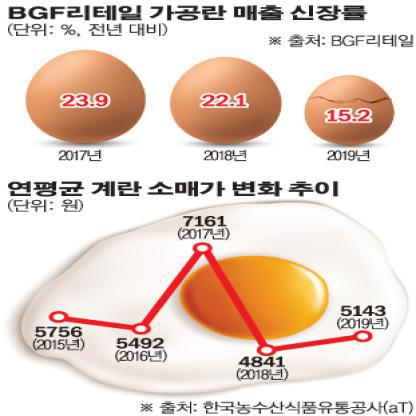egg: (9, 40, 158, 150), (156, 42, 288, 146), (296, 59, 384, 157)
